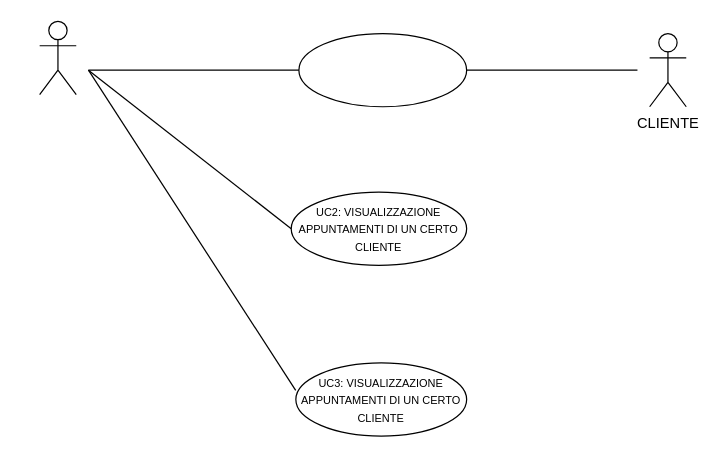
The diagram is 720 pixels wide and 458 high, and some of its shapes have lost their labels. The shapes that lost their labels are listed below. From the top down, each one's centre as x and y in pixels, then its label:
the point at 57,57: CENTRO ESTETICO
the point at 382,69: UC1: PRENOTAZIONE
